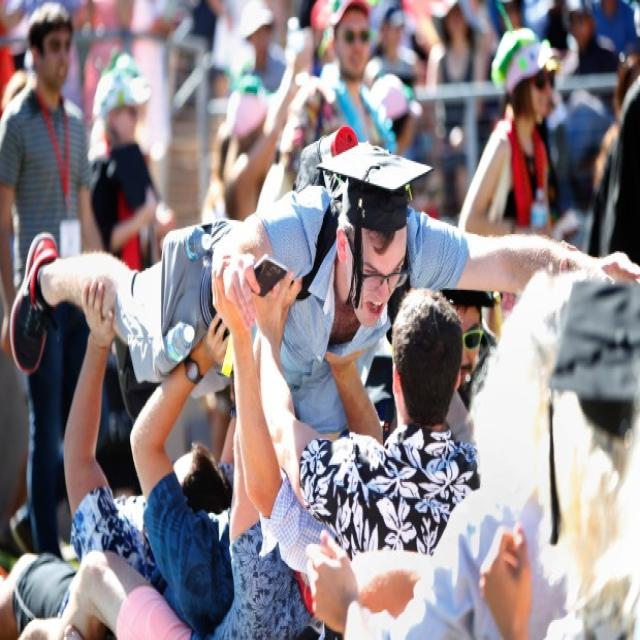body: (4, 121, 639, 448), (0, 0, 640, 243), (10, 297, 398, 638), (56, 266, 313, 640), (251, 270, 482, 564), (0, 0, 111, 568), (471, 271, 639, 639), (130, 307, 236, 638), (455, 22, 561, 242), (318, 0, 398, 153), (438, 283, 500, 417), (443, 286, 470, 424)
